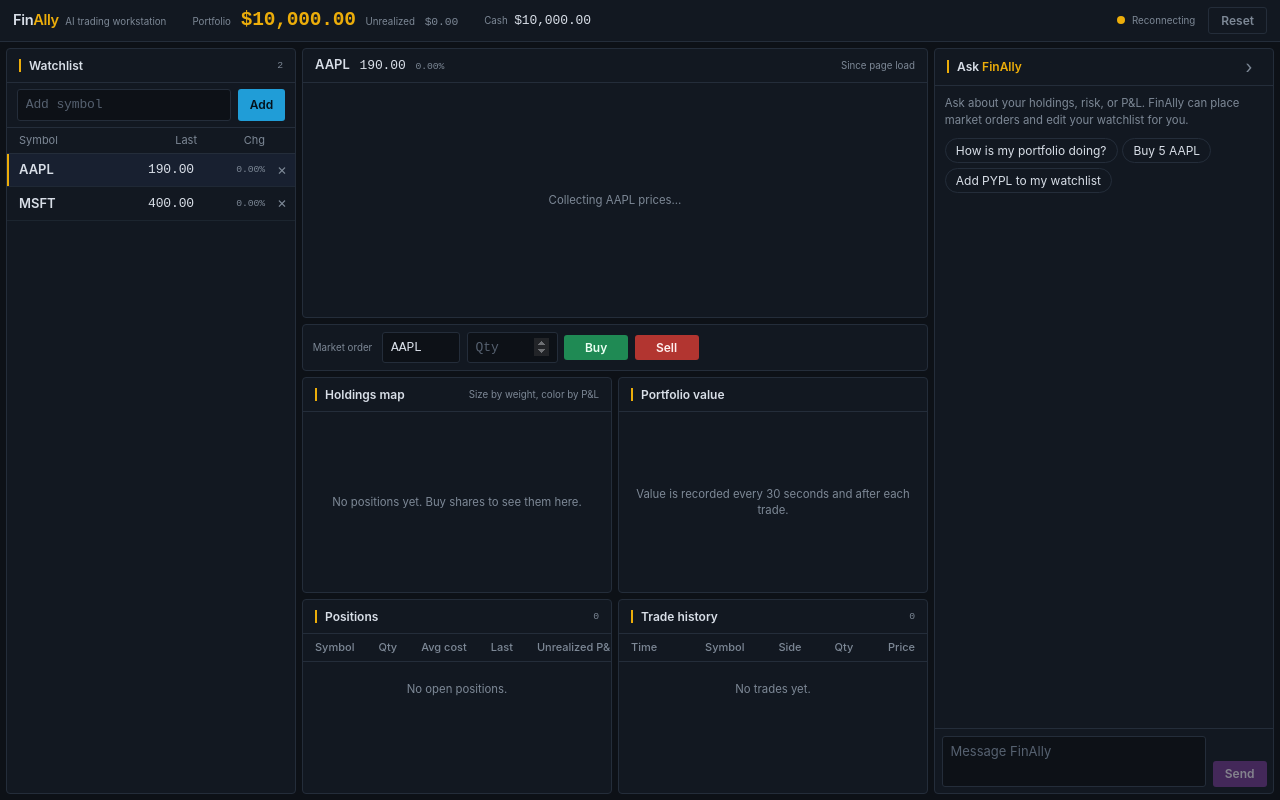
Test: Terminal › shows trade errors inline
Expected: the list item with test id "watchlist-row-AAPL" is shown, [7, 154, 295, 187]
Type "1000" into the number field with test id "trade-quantity-input" at [512, 347], box [466, 332, 558, 363]
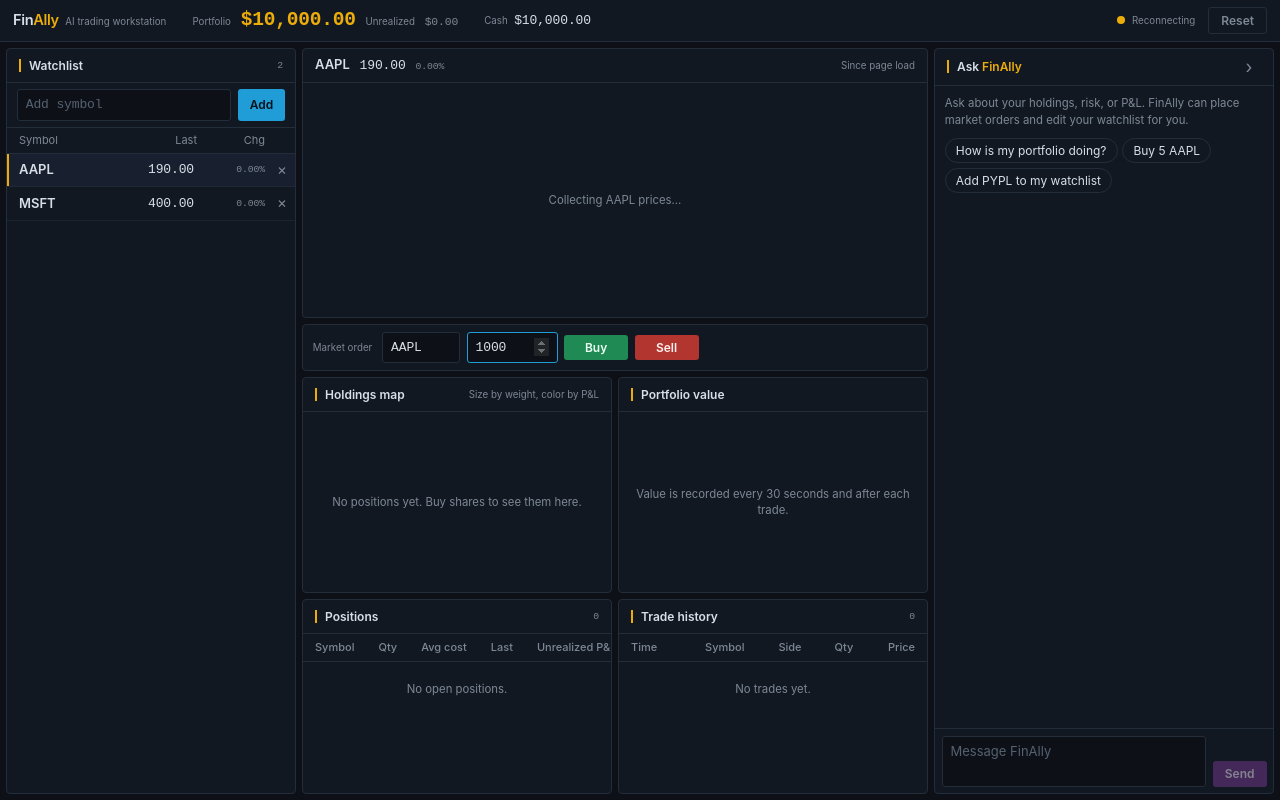
Click the button with test id "trade-buy-button" at [596, 347], box [564, 335, 628, 360]
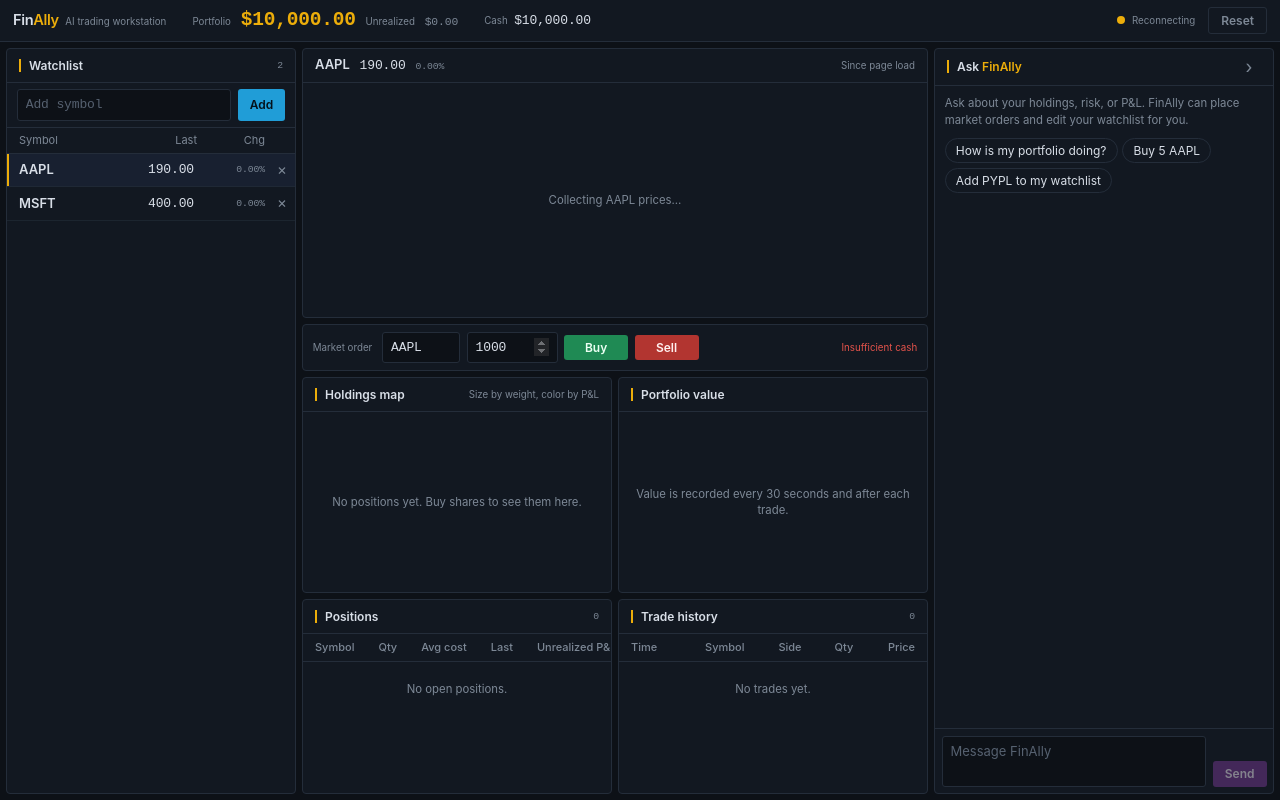
Expected: the message with test id "trade-error" reads "Insufficient cash", [841, 342, 917, 353]
